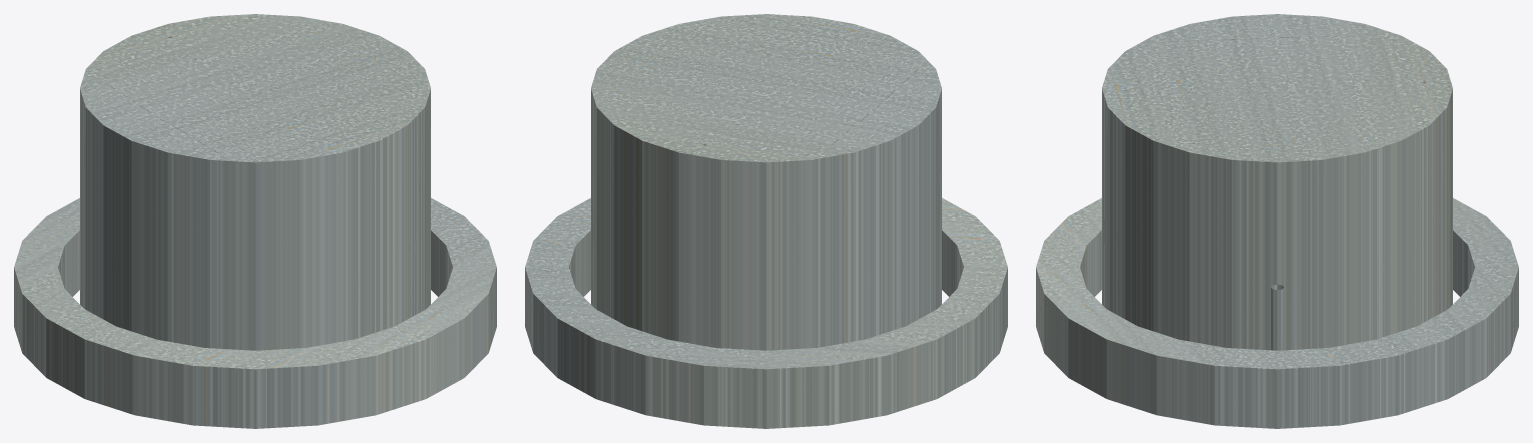
File: fuel_depot.glb
The picture shows the model from 3 angles, left to right: view 1: azimuth 30°, elevation 25°; view 2: azimuth 150°, elevation 25°; view 3: azimuth 270°, elevation 25°; orthographic projection.
Visible parts, largest first — view 1: FuelDepot; view 2: FuelDepot; view 3: FuelDepot.
Boxes of the visible parts, x1=… form: FuelDepot: x1=14, y1=14, x2=496, y2=428; FuelDepot: x1=525, y1=14, x2=1007, y2=428; FuelDepot: x1=1036, y1=14, x2=1518, y2=428.
Bounding box in the file's own units: 11 × 6 × 11.
1 material, 1 textured.
